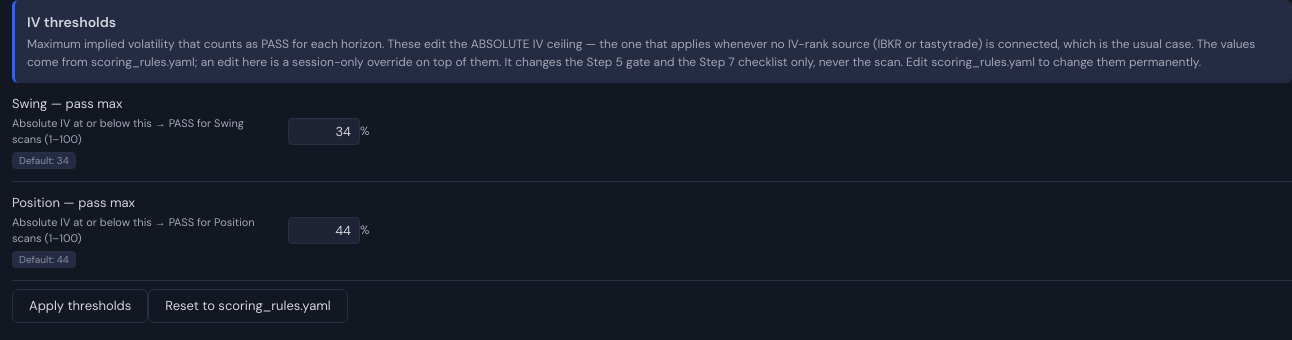
Test case: IvThresholdsSection › G5b: refuses abc
The image size is (1292, 340).
Replace the text in the field named "Swing pass max" with "abc" at [324, 132], box x1=288 y1=118 x2=360 y2=145
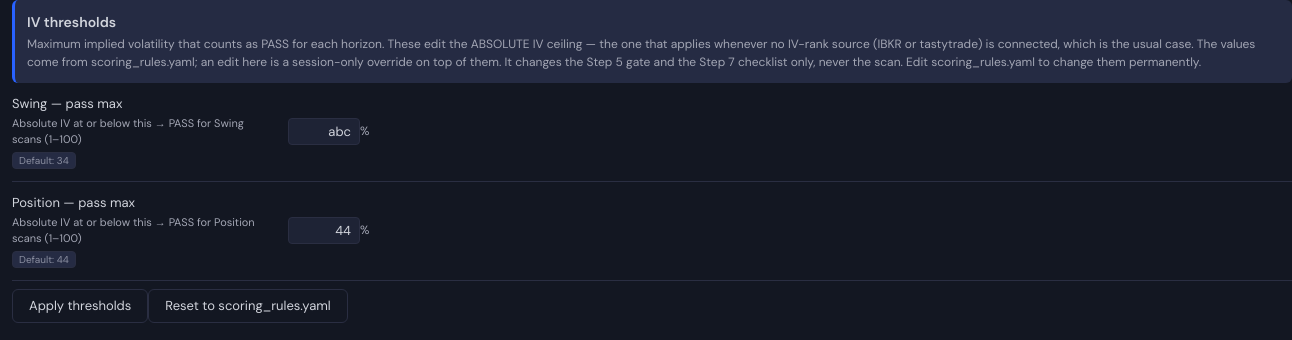
Click the button "Apply thresholds" at [80, 306], box x1=12 y1=288 x2=148 y2=322
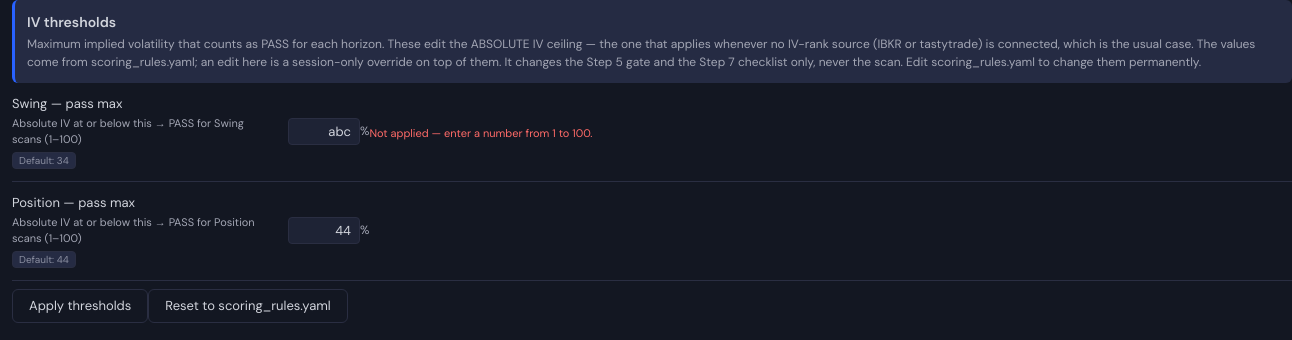
Check: the element showing "Not applied — enter a number from 1 to 100." is shown, box x1=369 y1=121 x2=592 y2=142
